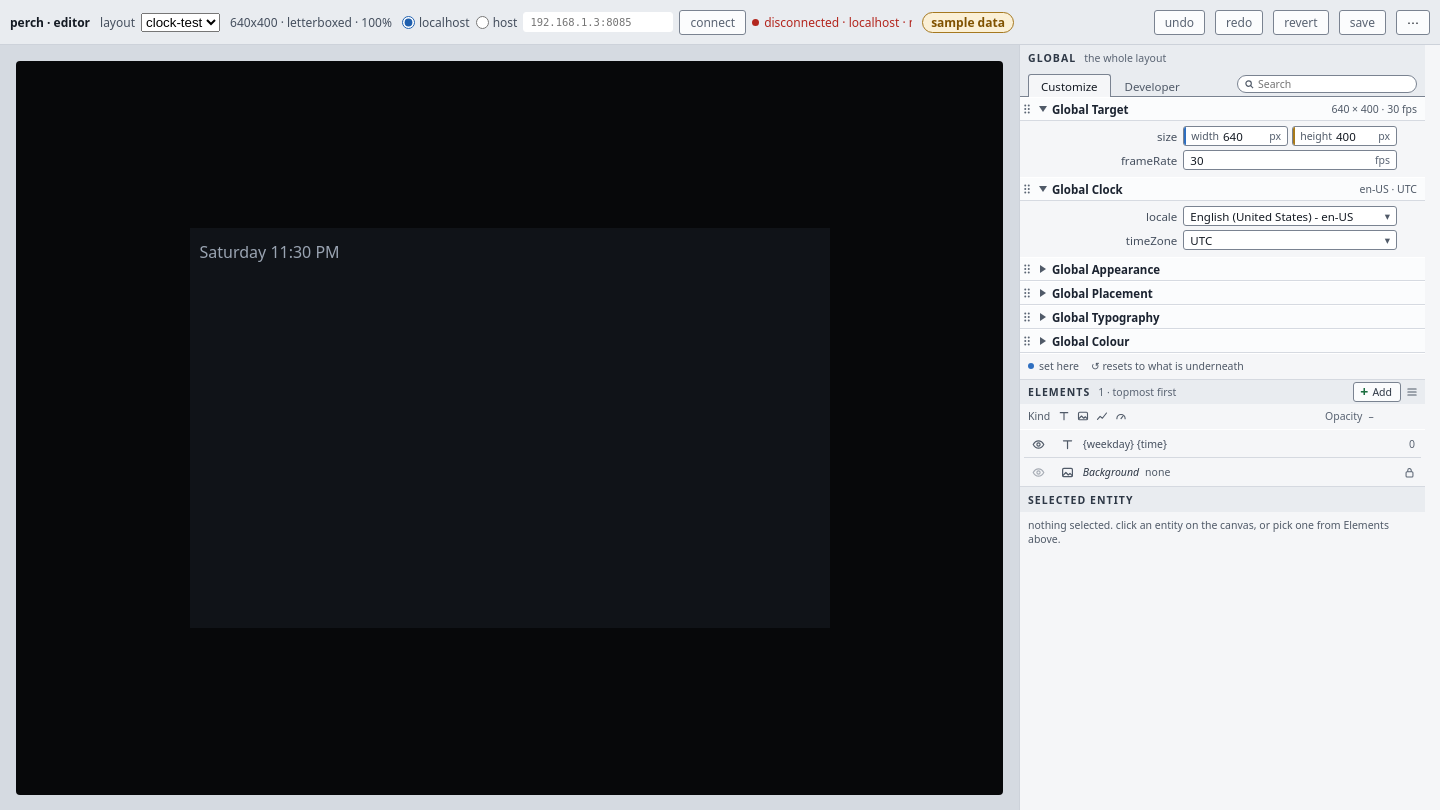
Scenario: the layout clock rows › removes the field when System default is chosen
The image size is (1440, 810).
Step 1. Click the button named "locale" → [1290, 216], box [1183,206,1397,226]
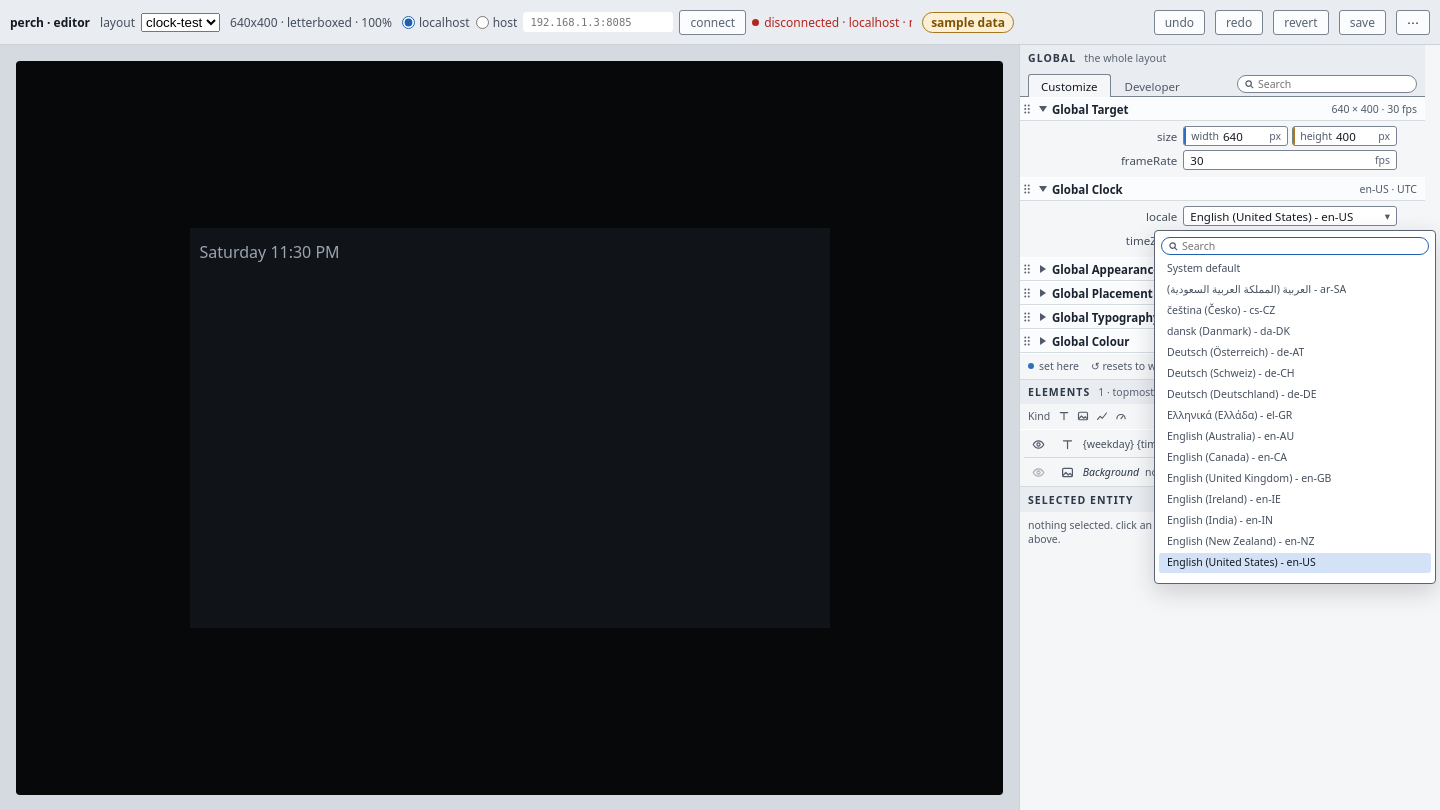
Step 2. Click the option "System default" → [1204, 268], box [1159,259,1431,279]
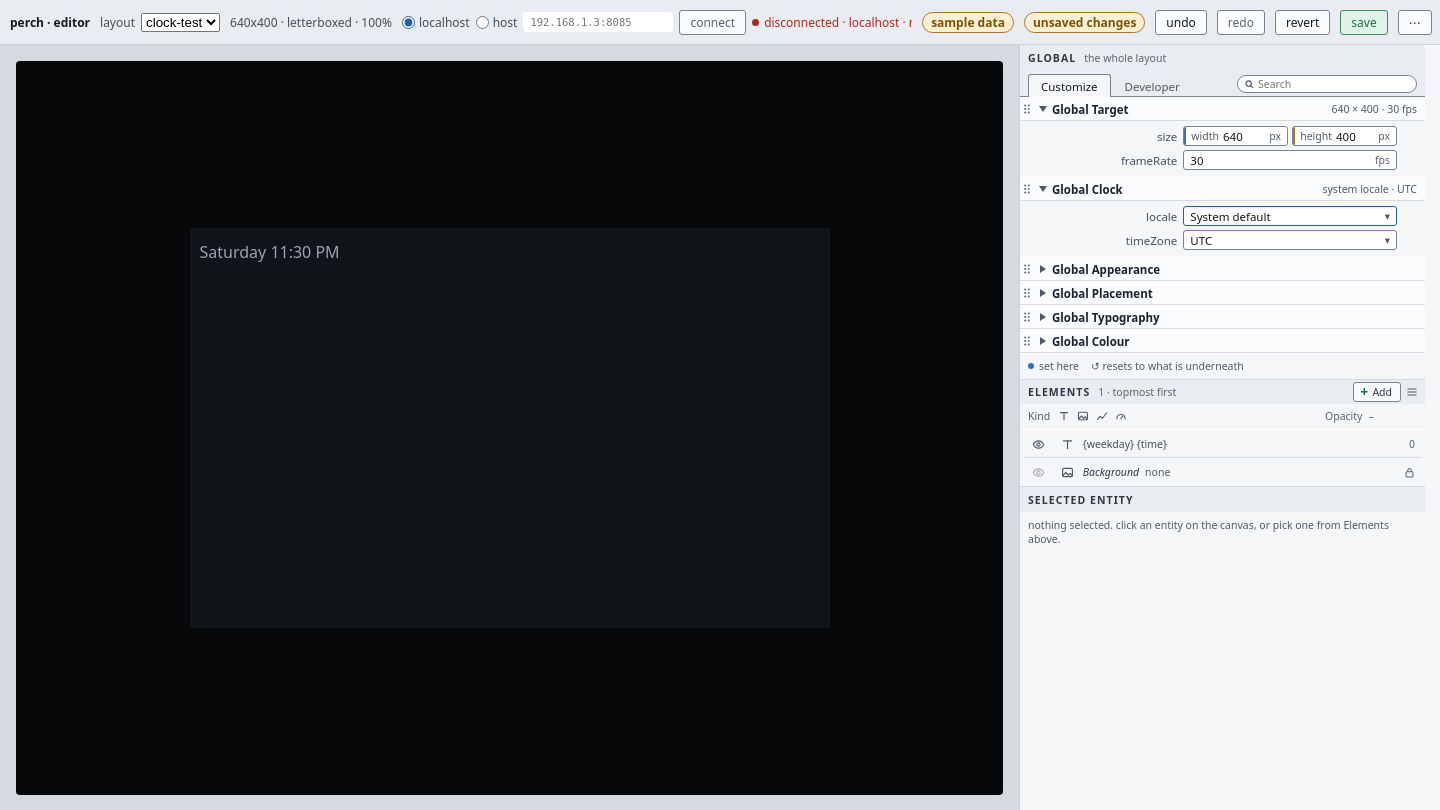
Expected: the button named "locale" shows "System default", [1183,206,1397,226]
